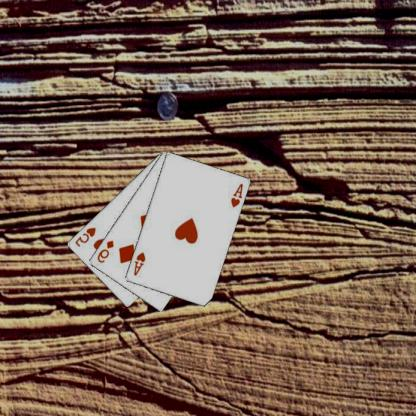5H: (74, 225, 98, 248)
6D: (96, 238, 117, 264)
AH: (230, 181, 246, 209), (133, 249, 148, 277)
